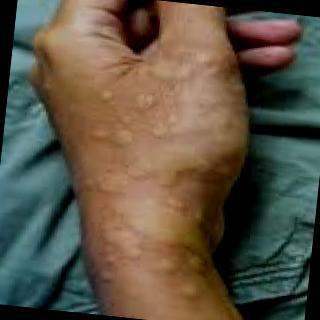urticaria: (104, 79, 196, 269)
